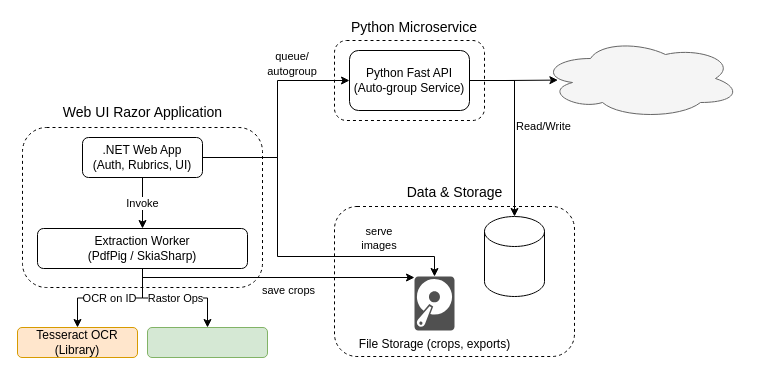
This 758x375 diagram has some shape labels left out. The centre of each missing label's shape, as x and y in pixels:
Ghostscript (Server executable): the point at 207,342
MySQL: the point at 514,256
OpenAI GPT-4o Vision (Cloud Service): the point at 640,78
